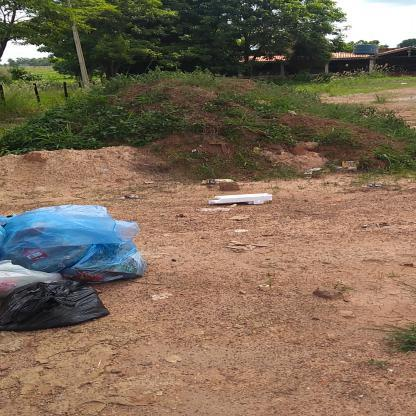lixo: (10, 202, 141, 334)
